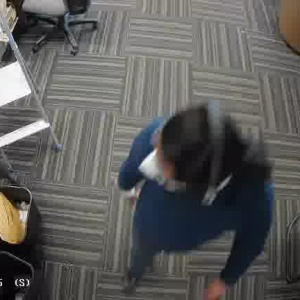person: (110, 118, 261, 291)
